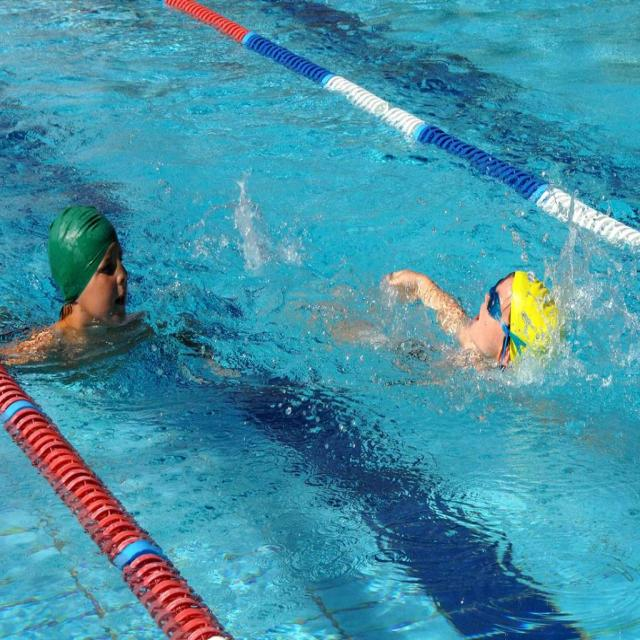nomask: (81, 224, 130, 330), (467, 276, 515, 343)
